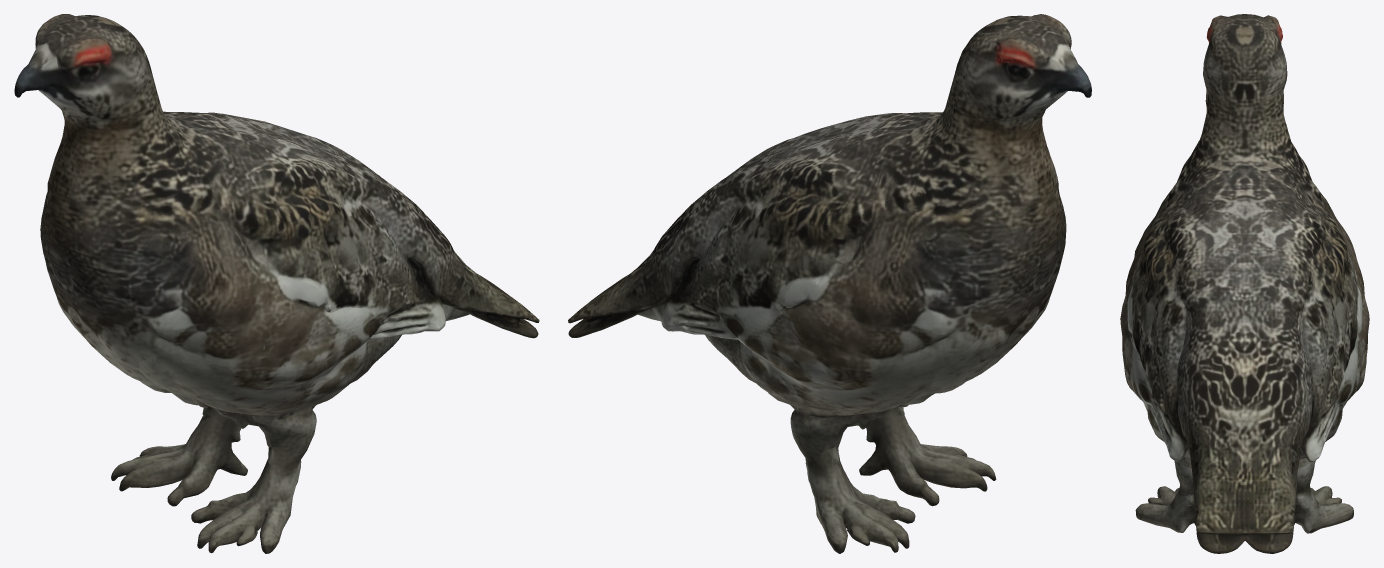
File: rock-ptarmigan-v20.glb
The picture shows the model from 3 angles, left to right: view 1: azimuth 30°, elevation 25°; view 2: azimuth 150°, elevation 25°; view 3: azimuth 270°, elevation 25°; orthographic projection. The views are drawn at different scales.
Visible parts, largest first — view 1: geometry_0; view 2: geometry_0; view 3: geometry_0.
Boxes of the visible parts, x1,y1,x2,y2 form: geometry_0: [14, 14, 539, 553]; geometry_0: [568, 14, 1091, 553]; geometry_0: [1120, 14, 1369, 553].
Bounding box in the file's own units: 0.3496 × 0.3426 × 0.1726.
Materials: 1 (1 with a texture image).
